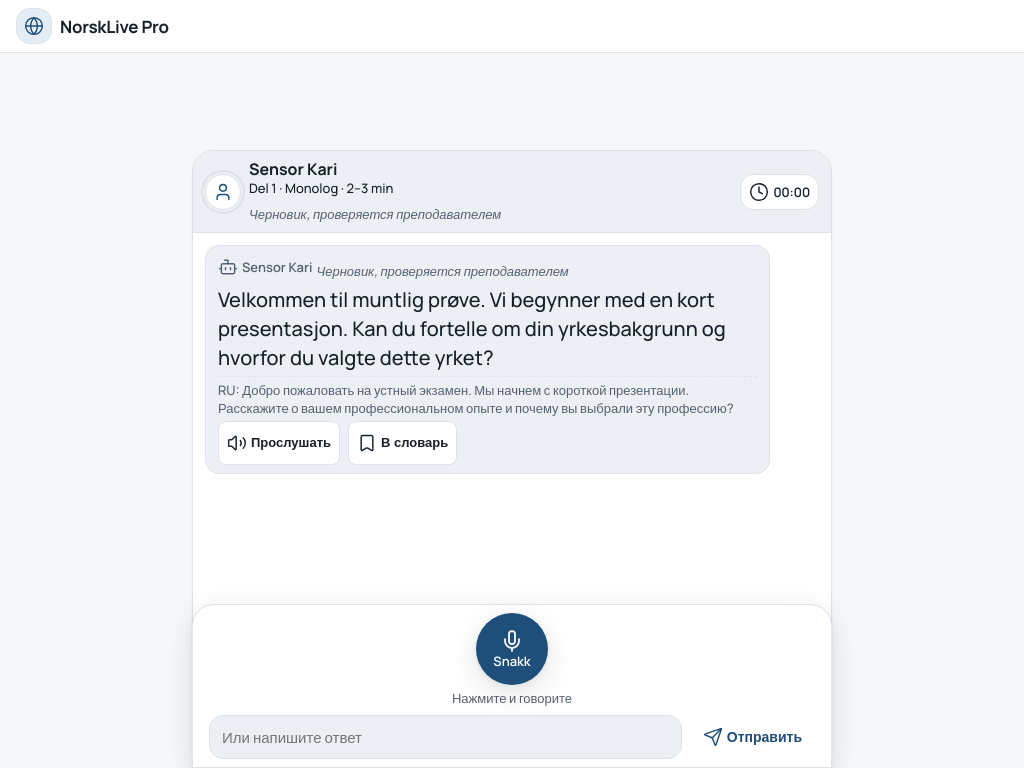
it: #48 exam mode hides hints (B9) › learning mode (default) shows «Попробуйте» and the answer suggestions
The image size is (1024, 768).
Type "Jeg bor i Bergen." into the field with id "userSpeechInput" at (445, 737), box x1=209 y1=715 x2=682 y2=759
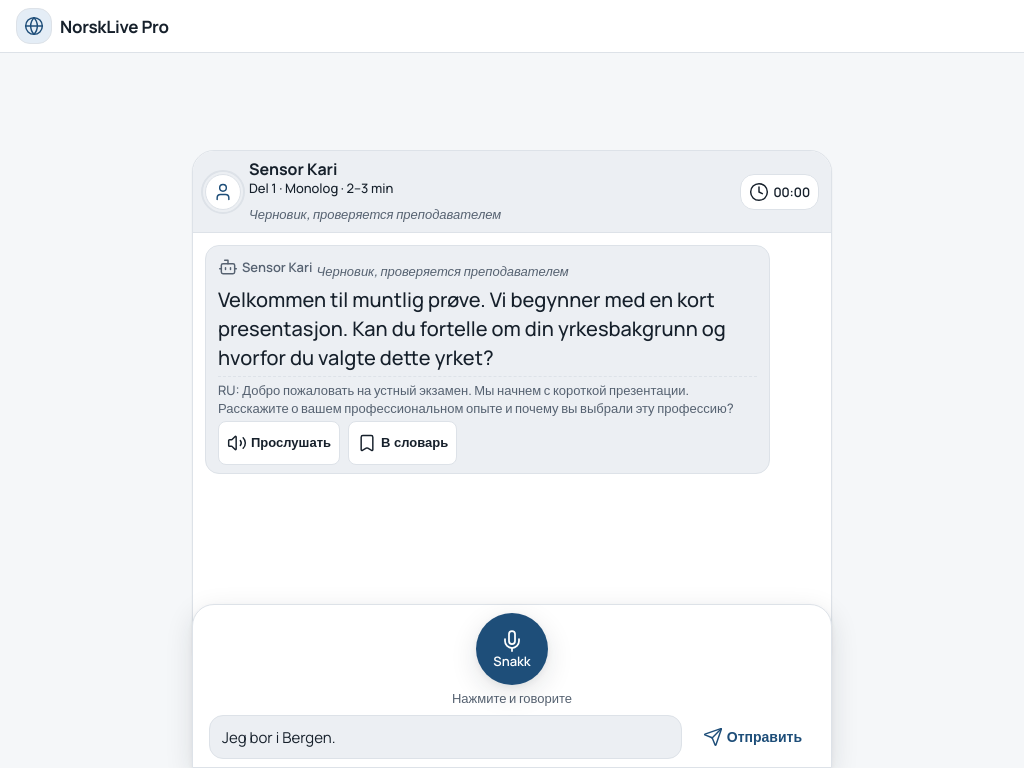
Click the button with id "sendSpeechBtn" at (752, 737), box x1=690 y1=715 x2=815 y2=759
(page scrolled)
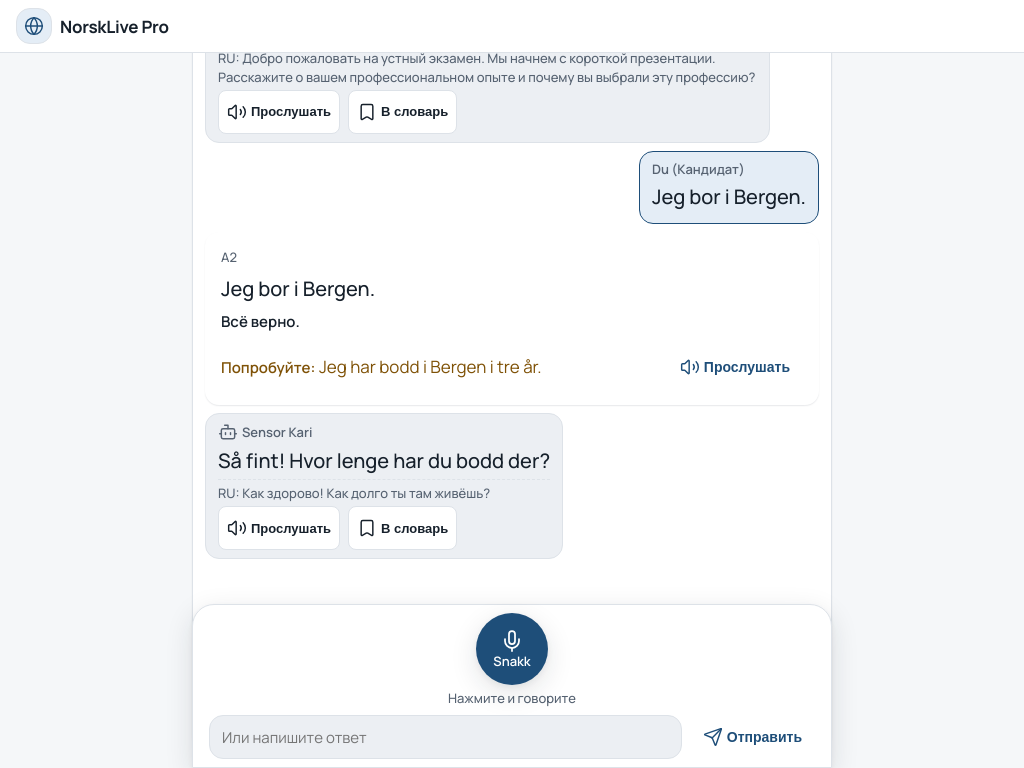
Expected: the element with id "latestCorrectionCard" is shown, x1=205 y1=232 x2=819 y2=405
Expected: the text "Попробуйте:" is shown, x1=221 y1=357 x2=316 y2=378
